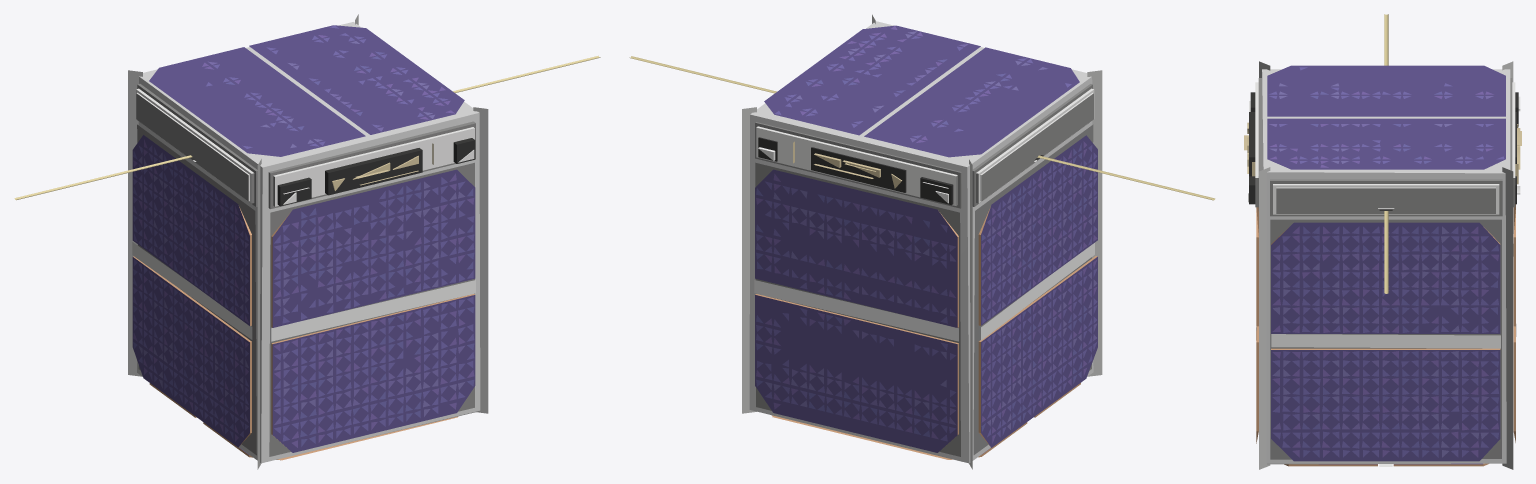
3 renders of one model, left to right at view 1: azimuth 30°, elevation 25°; view 2: azimuth 150°, elevation 25°; view 3: azimuth 270°, elevation 25°, orthographic. The views are drawn at different scales.
Visible parts, largest first — view 1: Layer_0; view 2: Layer_0; view 3: Layer_0.
Part boxes in pixels (<box>): Layer_0: <box>14,14,600,469</box>; Layer_0: <box>629,14,1215,469</box>; Layer_0: <box>1244,14,1521,469</box>.
Size of the model in its own units: 5.19 by 2.59 by 2.18.
